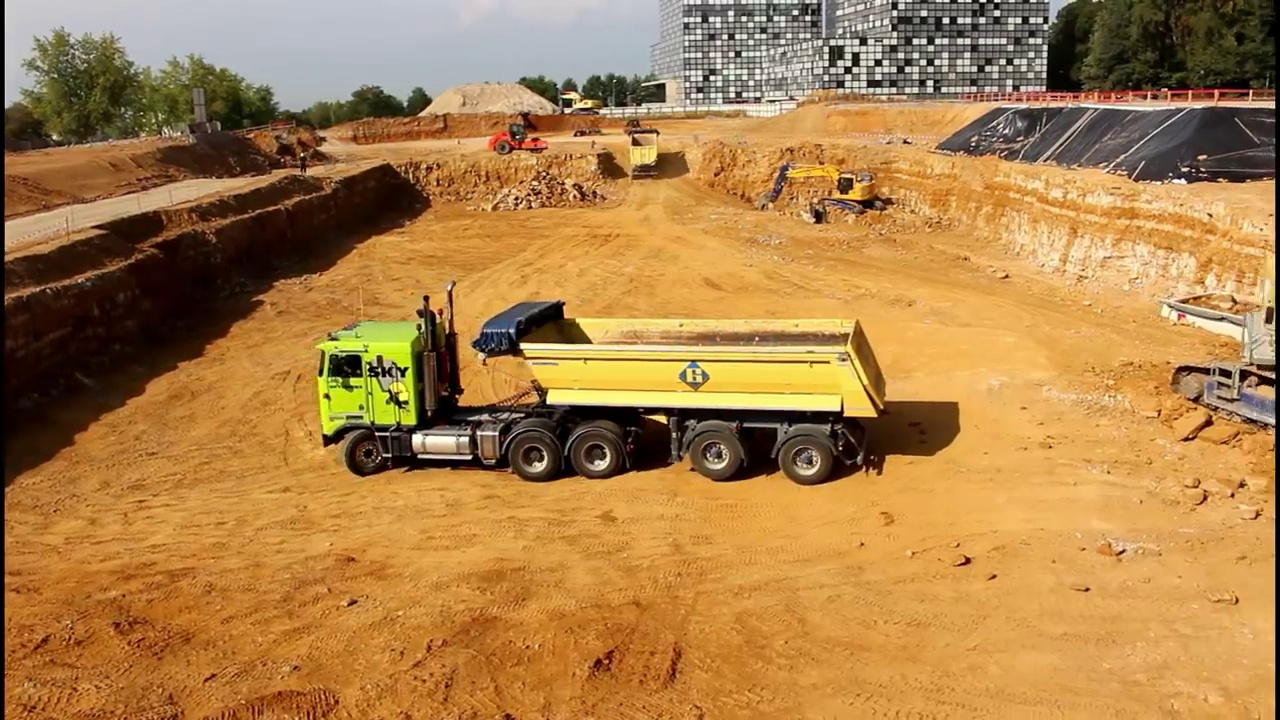compactor: (487, 120, 550, 159)
excavator: (1171, 254, 1280, 435), (756, 157, 892, 227), (557, 83, 606, 120)
truck: (309, 276, 898, 498), (1157, 279, 1280, 358), (625, 121, 667, 179)
